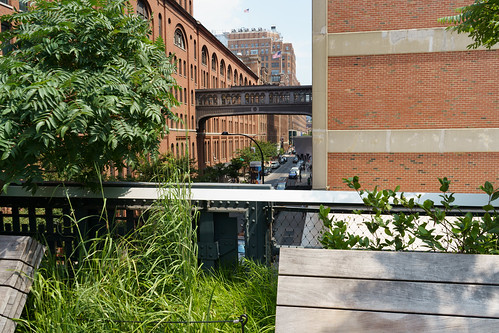bridge: (180, 73, 317, 130)
building: (1, 1, 273, 158), (317, 1, 499, 186), (224, 22, 299, 138)
tree: (1, 1, 173, 202)
